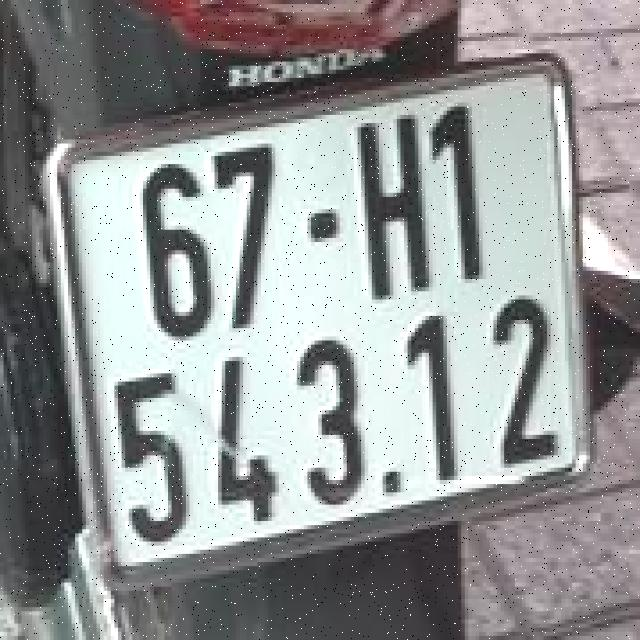1: (431, 99, 495, 287), (402, 310, 463, 486)
2: (483, 293, 565, 470)
3: (293, 334, 368, 507)
4: (215, 347, 282, 527)
5: (109, 367, 191, 548)
6: (136, 160, 214, 345)
7: (213, 136, 284, 340)
H: (352, 111, 434, 299)
